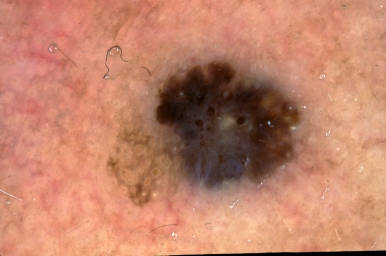seborrheic keratosis: (89, 46, 326, 218)
